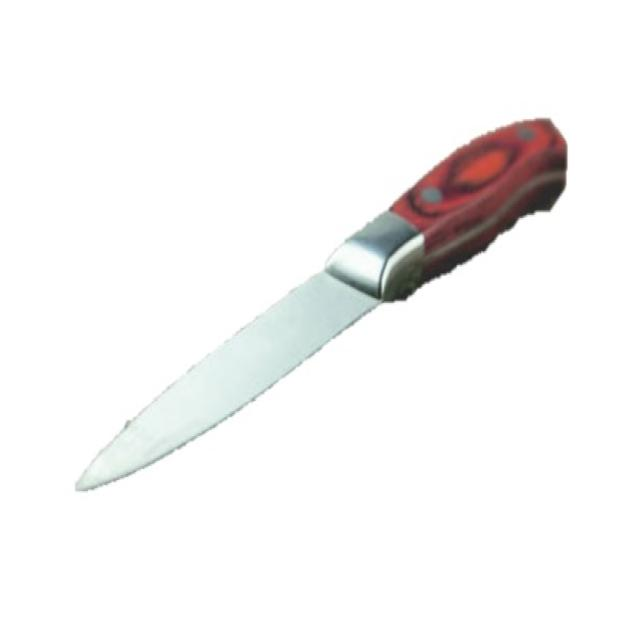knife: (67, 107, 572, 497)
